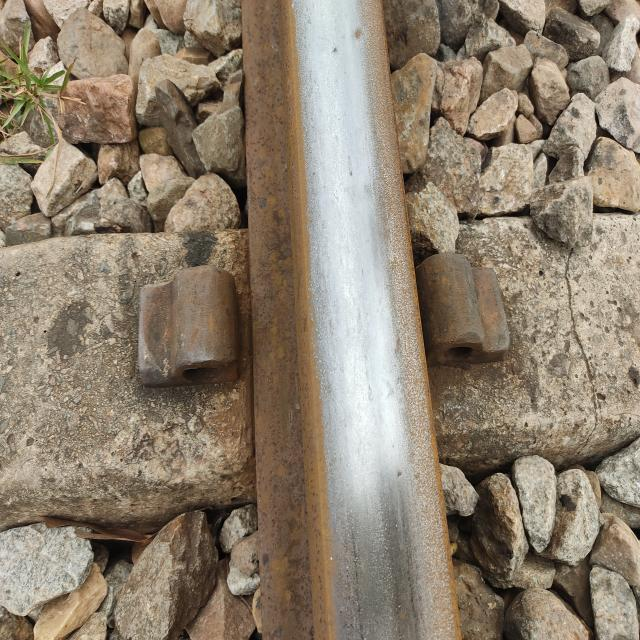fault: (127, 256, 250, 411), (418, 237, 518, 374)
